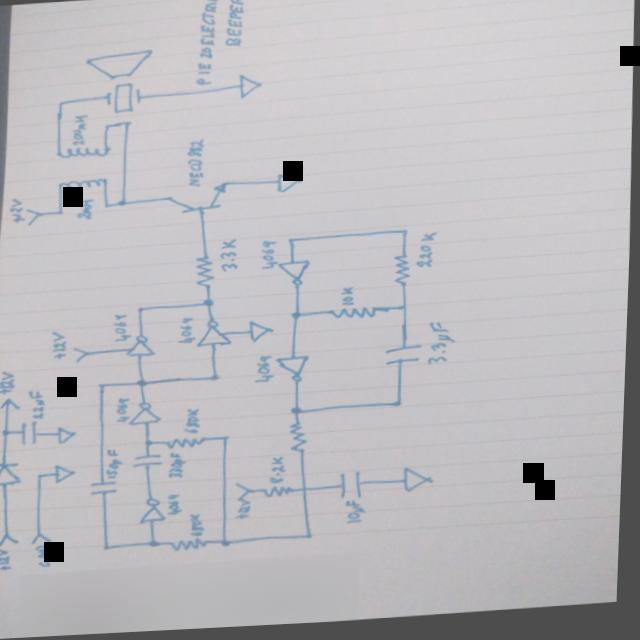capacitor: (383, 346, 425, 372), (339, 473, 367, 504), (133, 452, 166, 473), (18, 422, 45, 447), (90, 479, 121, 500)
crossover: (302, 487, 312, 500)
diode: (0, 461, 23, 489)
ground: (402, 468, 440, 500), (246, 319, 276, 348), (235, 75, 264, 103), (275, 175, 304, 197), (55, 463, 79, 485), (58, 425, 80, 446)
inductor: (53, 146, 112, 161), (55, 178, 110, 194)
junction: (289, 407, 308, 420), (391, 401, 407, 416), (147, 539, 165, 552), (201, 300, 219, 313), (288, 312, 304, 325), (135, 378, 151, 391), (208, 373, 224, 386), (135, 304, 149, 318), (304, 533, 321, 544), (0, 426, 14, 439), (221, 433, 234, 446), (116, 198, 129, 211), (221, 540, 235, 552), (398, 307, 411, 319), (285, 238, 298, 250), (95, 381, 110, 391), (35, 470, 47, 481), (144, 440, 157, 450), (398, 231, 411, 241), (103, 543, 114, 554), (101, 123, 111, 133), (120, 120, 132, 128), (101, 203, 111, 212), (55, 99, 65, 107), (54, 210, 64, 218)
resistor: (326, 308, 381, 327), (389, 252, 413, 294), (193, 254, 218, 291), (169, 538, 214, 557), (290, 422, 312, 460), (167, 436, 211, 455), (261, 486, 300, 503)
terminal: (72, 344, 91, 368), (0, 531, 24, 549), (30, 531, 58, 546), (0, 396, 24, 411), (236, 484, 253, 504), (24, 207, 41, 227)
text: (190, 0, 221, 90), (426, 324, 459, 371), (219, 0, 248, 52), (184, 139, 208, 192), (414, 235, 440, 274), (217, 240, 239, 277), (253, 358, 278, 389), (69, 113, 91, 148), (49, 328, 71, 363), (111, 314, 135, 345), (259, 241, 281, 274), (28, 389, 50, 422), (182, 409, 206, 439), (177, 318, 199, 349), (167, 454, 189, 484), (0, 366, 22, 396), (345, 502, 369, 529), (106, 450, 126, 482), (269, 458, 289, 488), (114, 395, 133, 426), (6, 197, 27, 225), (191, 514, 209, 541), (168, 494, 187, 519), (76, 199, 95, 224), (236, 501, 256, 524), (38, 545, 56, 570), (0, 548, 15, 573), (341, 288, 357, 311), (0, 444, 3, 463)
transistor: (164, 183, 230, 219)
